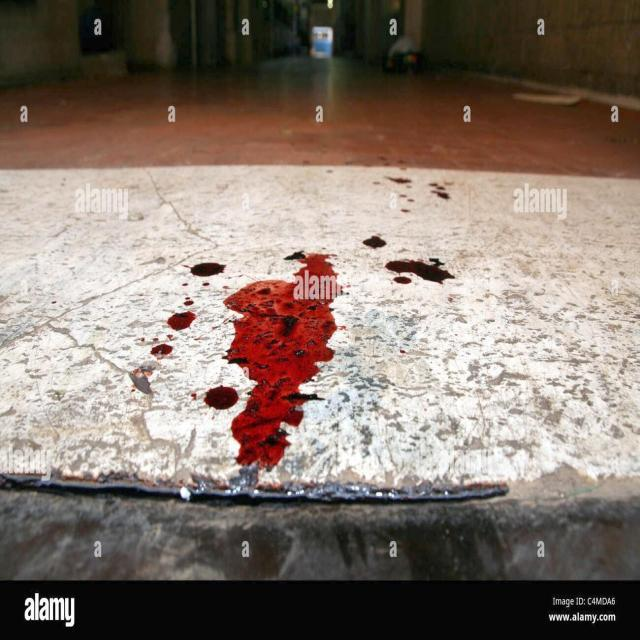flood: (222, 230, 342, 487)
